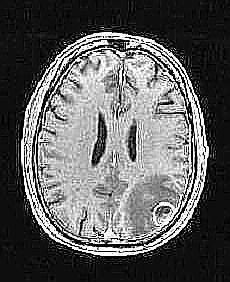Normal_Brain: (2, 3, 230, 282)
